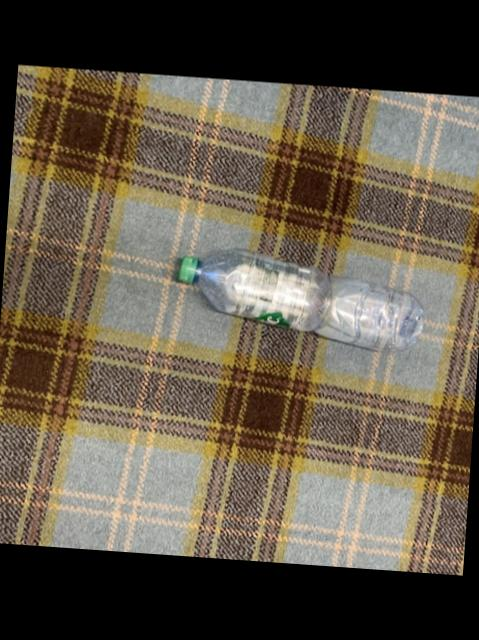plastic: (177, 247, 422, 350)
